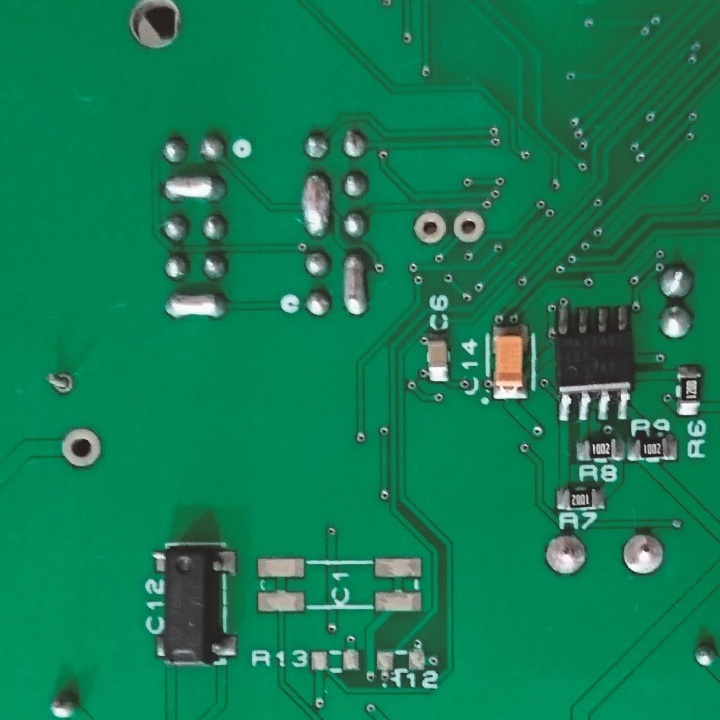F: (616, 528, 667, 580), (57, 423, 107, 471), (544, 530, 591, 579), (449, 206, 489, 246), (411, 209, 449, 249), (43, 369, 76, 396)
P: (335, 249, 370, 319), (159, 172, 231, 205), (300, 171, 333, 242), (160, 291, 233, 323)
